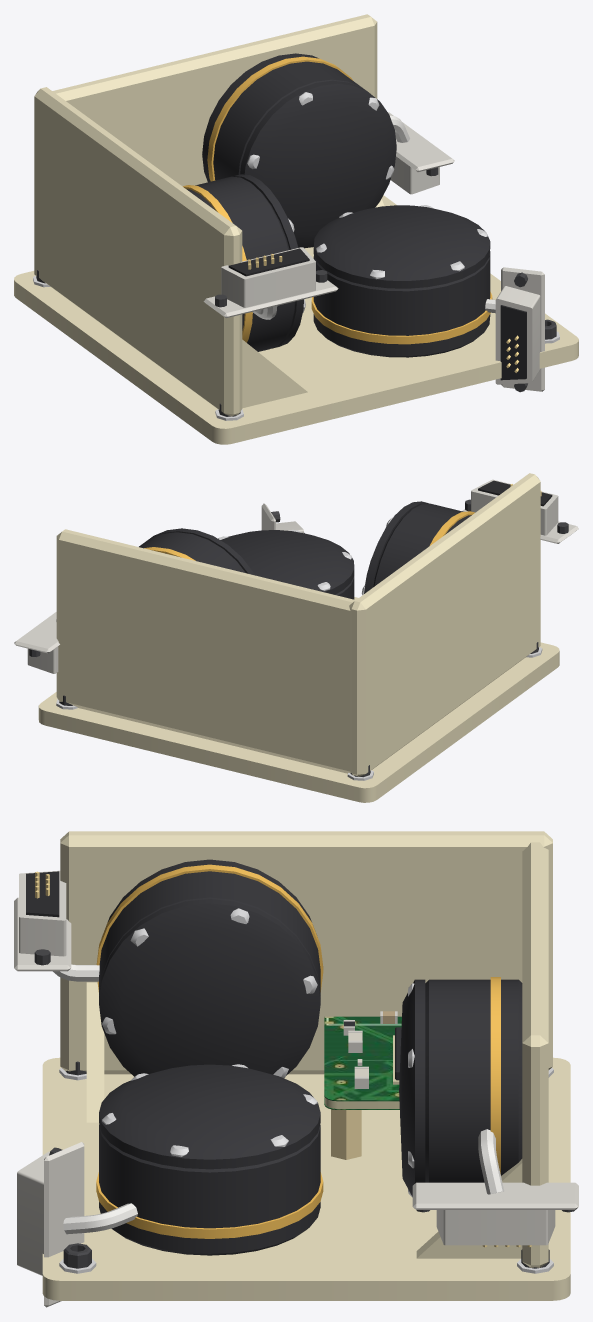
File: rw_cluster.glb
3 views of the same model, one above another, from view 1: azimuth 30°, elevation 25°; view 2: azimuth 150°, elevation 25°; view 3: azimuth 270°, elevation 25° (orthographic). The views are drawn at different scales.
Visible parts, largest first — view 1: rw_cluster, wheel_y, cover_z, cover_y, wheel_x, wheel_z, cover_x; view 2: rw_cluster, cover_y, wheel_x, wheel_z, cover_x, wheel_y, cover_z; view 3: rw_cluster, cover_x, wheel_z, wheel_y, cover_y, wheel_x, drive_board, cover_z.
Part boxes in pixels (box(x1,y1,x2,y2)): rw_cluster: box(14, 14, 578, 444); wheel_y: box(311, 251, 544, 392); cover_z: box(240, 80, 396, 248); cover_y: box(313, 205, 490, 288); wheel_x: box(183, 176, 338, 351); wheel_z: box(202, 53, 454, 194); cover_x: box(233, 174, 305, 348); rw_cluster: box(38, 473, 559, 802); cover_y: box(218, 529, 354, 594); wheel_x: box(373, 479, 578, 586); wheel_z: box(14, 532, 245, 673); cover_x: box(361, 501, 428, 594); wheel_y: box(261, 503, 354, 599); cover_z: box(150, 528, 254, 575); rw_cluster: box(42, 831, 570, 1300); cover_x: box(99, 899, 320, 1078); wheel_z: box(412, 977, 578, 1247); wheel_y: box(17, 1124, 323, 1307); cover_y: box(99, 1064, 320, 1169); wheel_x: box(14, 859, 323, 997); drive_board: box(324, 1011, 401, 1109); cover_z: box(399, 979, 425, 1197).
Bounding box in the file's own units: 0.0642 × 0.0364 × 0.0642.
Materials: 19 (1 with a texture image).
